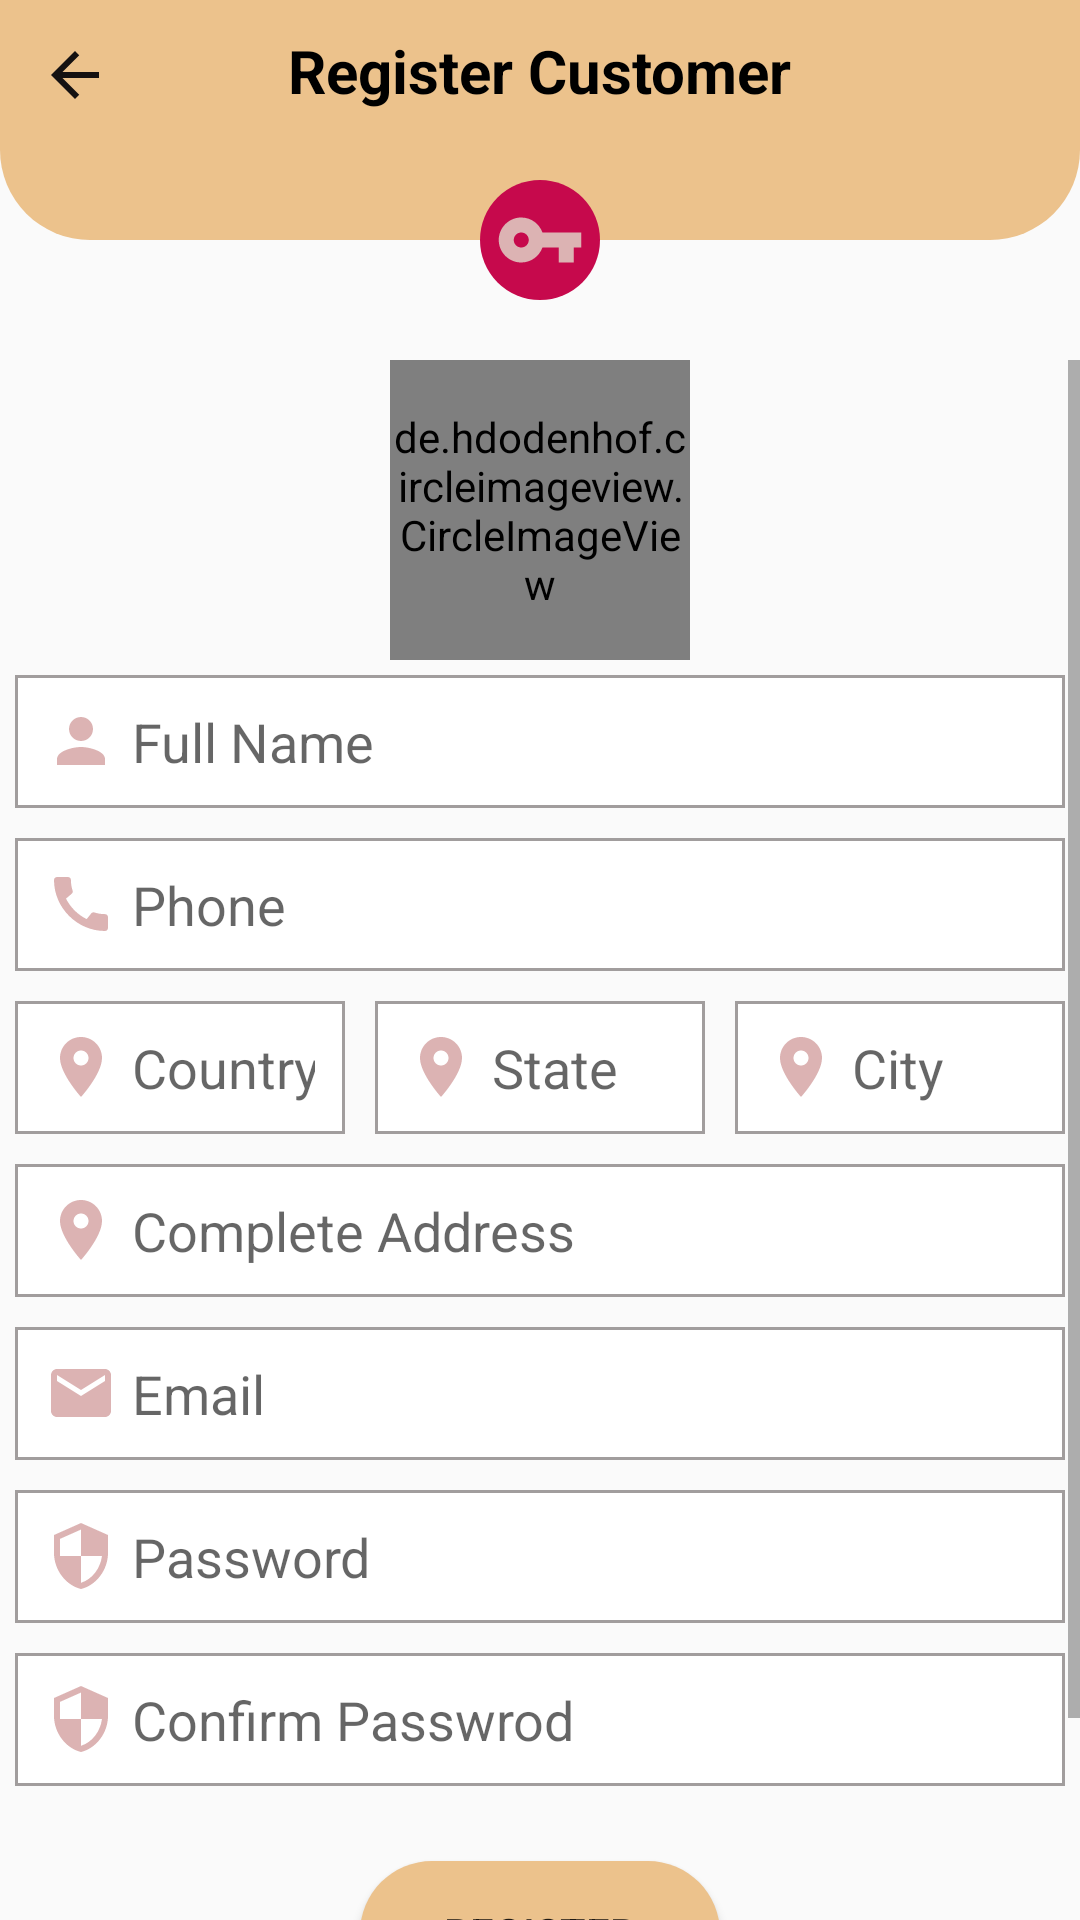

Point at icon controls on the screen. Image size 1080×1920, points as (x=x, y=y).
back: (x=75, y=75)
key: (x=540, y=240)
